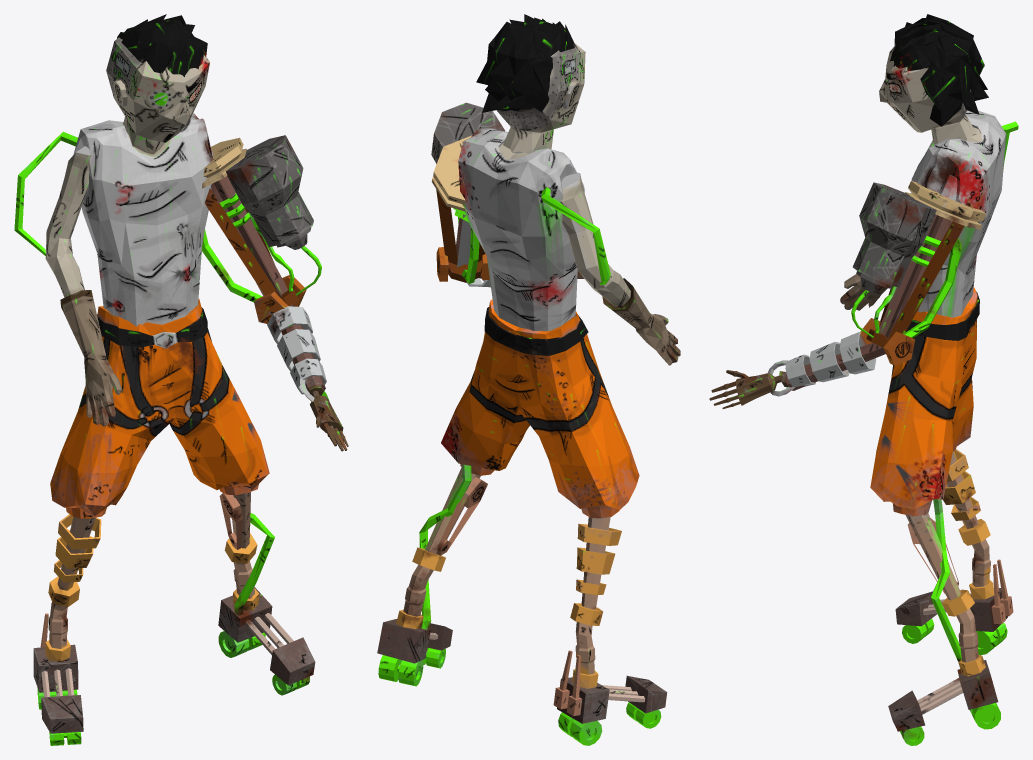
Rendered from CyborgFINALAnimation_000037.obj.
3 renders of one model, left to right at view 1: azimuth 30°, elevation 25°; view 2: azimuth 150°, elevation 25°; view 3: azimuth 270°, elevation 25°, orthographic. The views are drawn at different scales.
Visible parts, largest first — view 1: CyborgMesh_Cube.002; view 2: CyborgMesh_Cube.002; view 3: CyborgMesh_Cube.002.
Boxes of the visible parts, x1,y1,x2,y2 form: CyborgMesh_Cube.002: (14, 14, 348, 745); CyborgMesh_Cube.002: (377, 14, 680, 745); CyborgMesh_Cube.002: (709, 14, 1018, 745).
Size of the model in its own units: 3.76 by 9.66 by 4.06.
